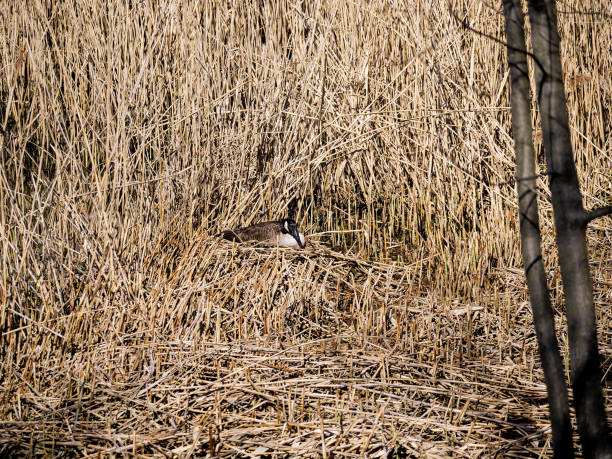goose: (215, 215, 308, 252)
